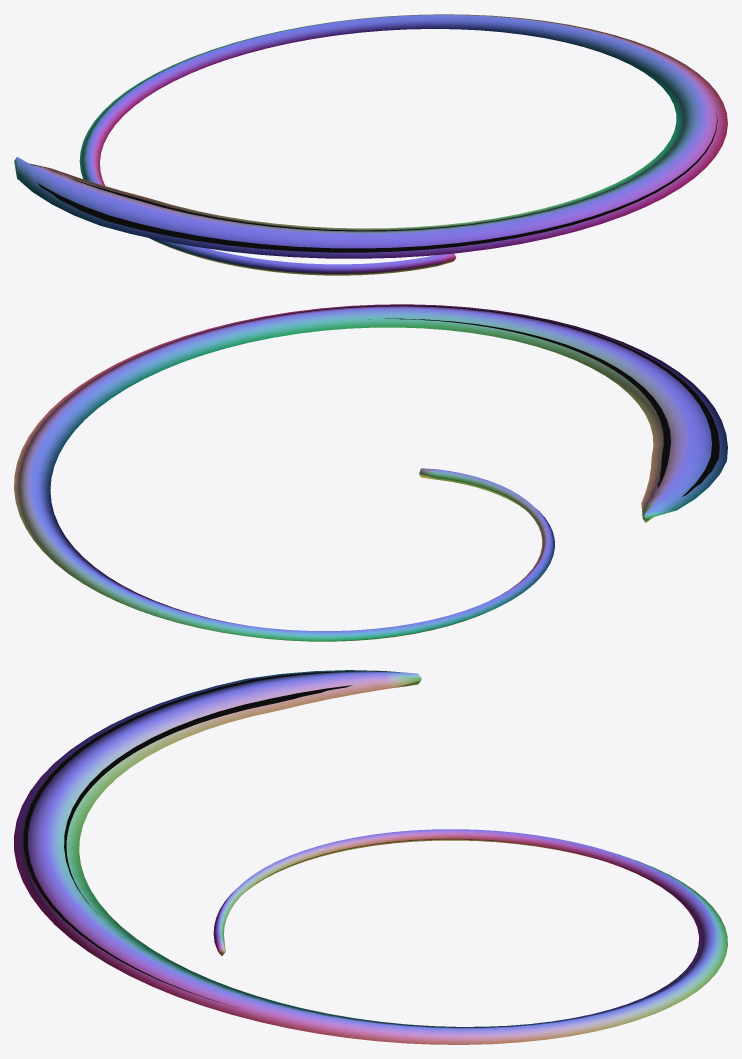
The model's file is SM_FX_WhirlBand.fbx.
The picture shows the model from 3 angles, top to bottom: view 1: azimuth 30°, elevation 25°; view 2: azimuth 150°, elevation 25°; view 3: azimuth 270°, elevation 25°; orthographic projection. The views are drawn at different scales.
Visible parts, largest first — view 1: SM_FX_WhirlBand; view 2: SM_FX_WhirlBand; view 3: SM_FX_WhirlBand.
Part boxes in pixels (x1,y1,x2,y2): SM_FX_WhirlBand: (14,14,727,275); SM_FX_WhirlBand: (14,304,727,641); SM_FX_WhirlBand: (14,670,727,1044).
Size of the model in its own units: 1.98 by 0.3391 by 1.83.
